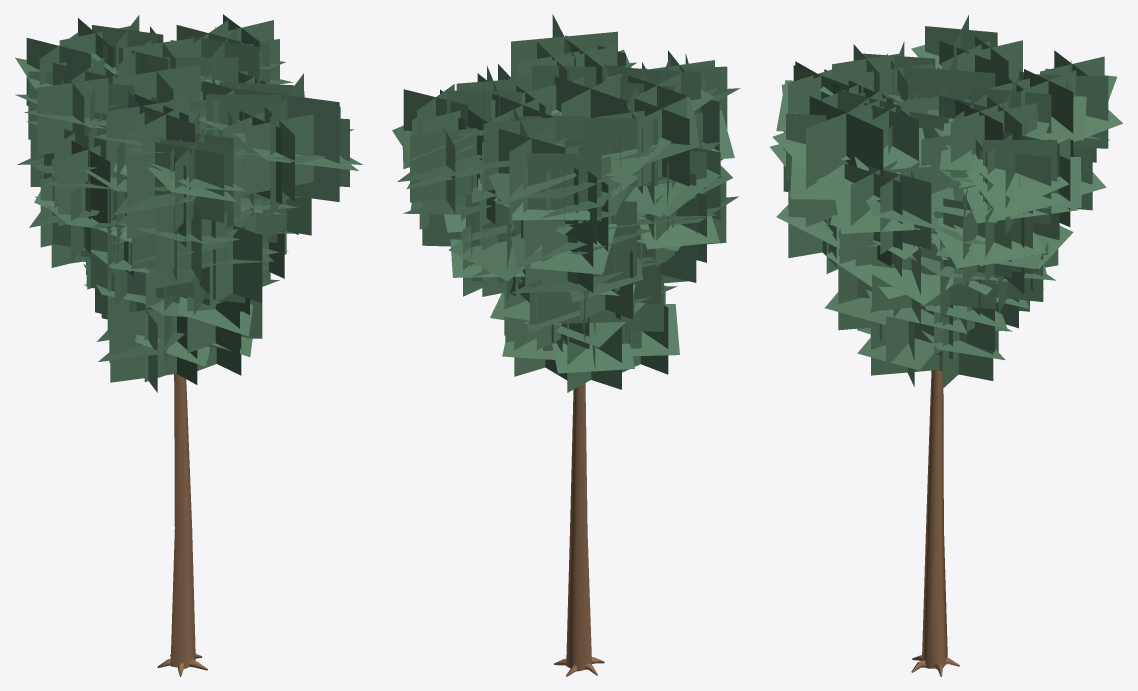
The model's file is pin_5_loin.glb.
3 renders of one model, left to right at view 1: azimuth 30°, elevation 25°; view 2: azimuth 150°, elevation 25°; view 3: azimuth 270°, elevation 25°, orthographic.
Visible parts, largest first — view 1: Pin_T5_Leger_Loin; view 2: Pin_T5_Leger_Loin; view 3: Pin_T5_Leger_Loin.
Part boxes in pixels (x1,y1,x2,y2): Pin_T5_Leger_Loin: (15,14,362,676); Pin_T5_Leger_Loin: (392,14,740,676); Pin_T5_Leger_Loin: (770,15,1122,676).
Bounding box in the file's own units: 11.82 × 22.93 × 12.46.
